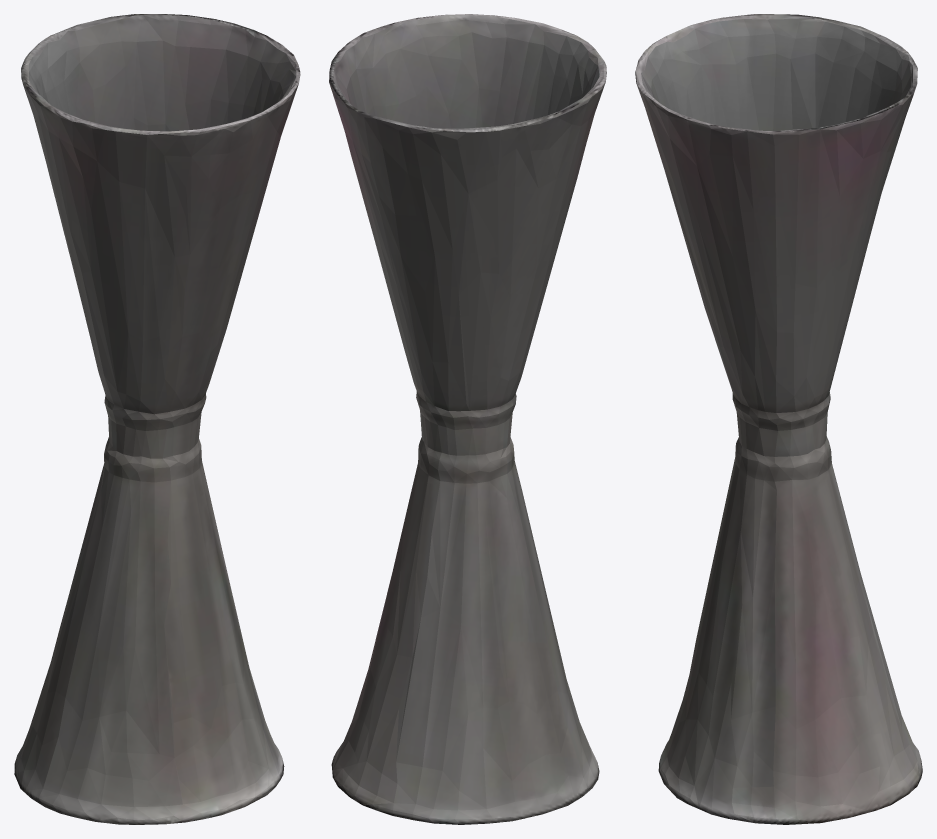
The model's file is jigger.glb.
3 renders of one model, left to right at view 1: azimuth 30°, elevation 25°; view 2: azimuth 150°, elevation 25°; view 3: azimuth 270°, elevation 25°, orthographic.
Parts seen in each view (by area): view 1: jigger; view 2: jigger; view 3: jigger.
Boxes of the visible parts, x1=… form: jigger: x1=14, y1=14, x2=300, y2=824; jigger: x1=329, y1=14, x2=606, y2=824; jigger: x1=635, y1=14, x2=922, y2=824.
Bounding box in the file's own units: 0.2008 × 0.5504 × 0.2051.
1 material, 1 textured.
